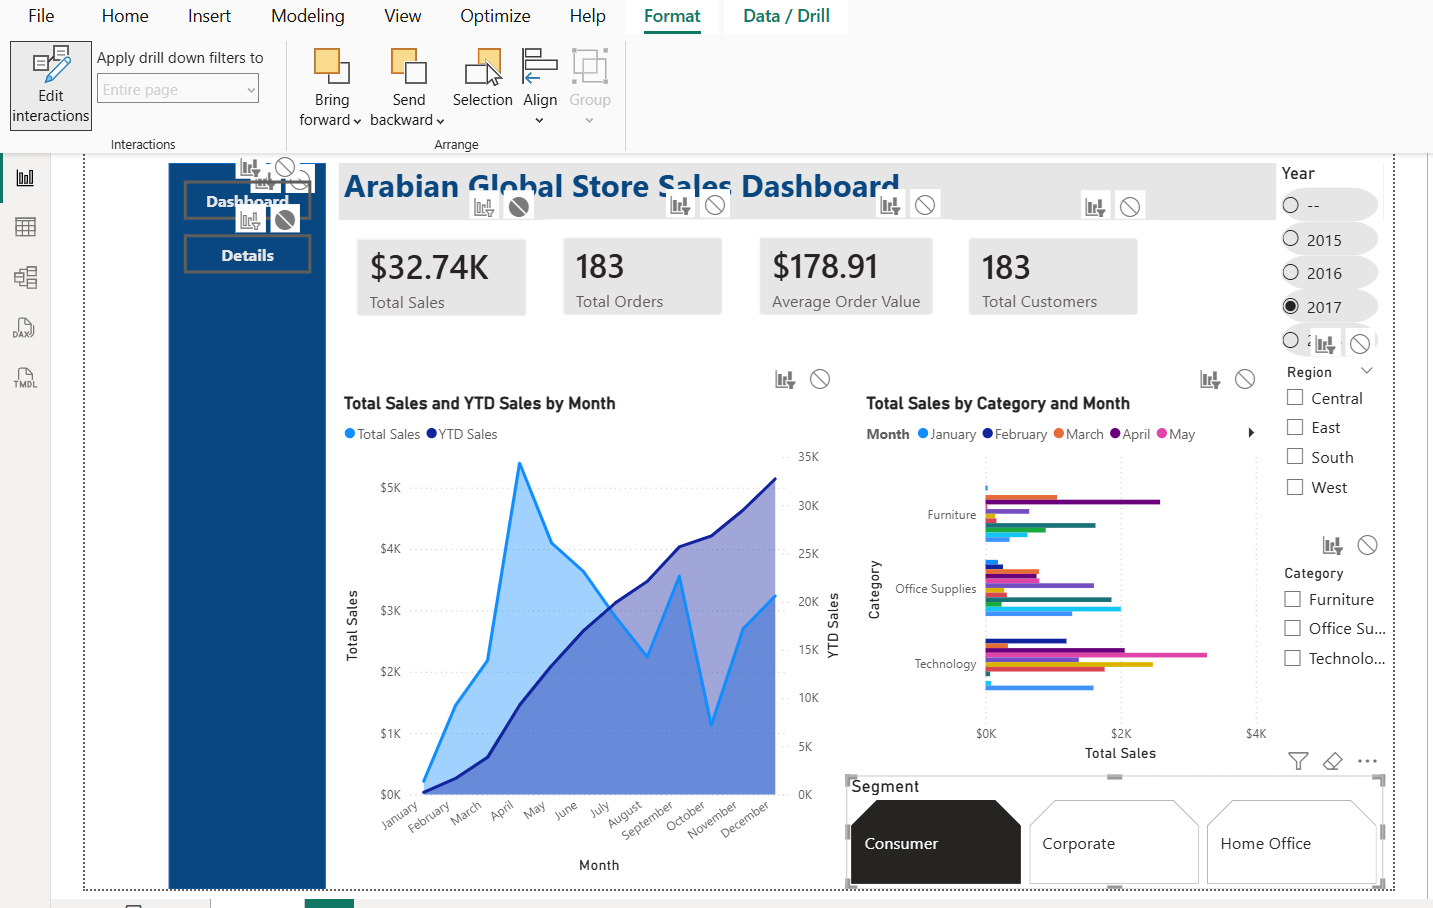

What the dashboard file says about the page in this screenshot:
{"tool":"powerbi","page":{"name":"Page 1","canvas":[1280,720],"ordinal":0},"visuals":[{"type":"shape","box":[82.3,9.6,153.7,710.8],"z":0},{"type":"textbox","title":"Arabian Global Store            Sales Dashboard","box":[248.3,9.6,1022.3,56.3],"z":0,"group":"g1"},{"type":"actionButton","box":[96.1,27.4,124.9,38.4],"z":1000},{"type":"cardVisual","fields":{"Data":["Fact_Orders.Total Sales"]},"box":[248.2,66,201.8,111.3],"z":1000,"group":"g1"},{"type":"cardVisual","fields":{"Data":["Fact_Orders.Total Orders"]},"box":[450,64.8,192,111.3],"z":2000,"group":"g1"},{"type":"actionButton","box":[96.1,79.6,124.9,38.4],"z":2000},{"type":"group","id":"g1","title":"Group 1","box":[248.2,9.6,1032.1,710.6],"z":3000},{"type":"cardVisual","fields":{"Data":["Fact_Orders.Average Order Value"]},"box":[642,64.8,205.4,111.3],"z":3000,"group":"g1"},{"type":"areaChart","fields":{"Category":["Dim_Date.Month"],"Y":["Fact_Orders.Total Sales"],"Y2":["Fact_Orders.YTD Sales"]},"box":[248.2,234.8,496.5,474.5],"z":4000,"group":"g1"},{"type":"actionButton","box":[0,0,100,40],"z":5000},{"type":"clusteredBarChart","fields":{"Y":["Fact_Orders.Total Sales"],"Category":["Dim_Products.Category"],"Series":["Dim_Date.Month"]},"box":[759.3,234.8,401.1,365.6],"z":5000,"group":"g1"},{"type":"cardVisual","fields":{"Data":["Dim_Customers.Total Customers"]},"box":[847.4,66,200.5,110.1],"z":6000,"group":"g1"},{"type":"listSlicer","fields":{"Values":["Dim_Date.Year"]},"box":[1165.3,9.8,105.2,297.1],"z":7000,"group":"g1"},{"type":"slicer","fields":{"Values":["Fact_Orders.Region"]},"box":[1162.9,200.5,110.1,181],"z":8000,"group":"g1"},{"type":"slicer","fields":{"Values":["Dim_Products.Category"]},"box":[1160.4,397.4,119.8,220.1],"z":9000,"group":"g1"},{"type":"advancedSlicerVisual","fields":{"Values":["Dim_Customers.Segment"]},"box":[744.7,609,525.8,111.3],"z":10000,"group":"g1"}]}

Visuals, with their boxes on the page's 1280x720 design canvas (x1, y1, x2, y2). These are canvas units, not pixel positions in the 1433x908 screenshot, which may show the page scaled, cropped or inside an application window:
shape: (left=82, top=10, right=236, bottom=720)
"Arabian Global Store            Sales Dashboard" textbox: (left=248, top=10, right=1271, bottom=66)
actionButton: (left=96, top=27, right=221, bottom=66)
cardVisual - Fact_Orders.Total Sales: (left=248, top=66, right=450, bottom=177)
cardVisual - Fact_Orders.Total Orders: (left=450, top=65, right=642, bottom=176)
actionButton: (left=96, top=80, right=221, bottom=118)
"Group 1" group: (left=248, top=10, right=1280, bottom=720)
cardVisual - Fact_Orders.Average Order Value: (left=642, top=65, right=847, bottom=176)
areaChart - Dim_Date.Month x Fact_Orders.Total Sales: (left=248, top=235, right=745, bottom=709)
actionButton: (left=0, top=0, right=100, bottom=40)
clusteredBarChart - Fact_Orders.Total Sales x Dim_Products.Category: (left=759, top=235, right=1160, bottom=600)
cardVisual - Dim_Customers.Total Customers: (left=847, top=66, right=1048, bottom=176)
listSlicer - Dim_Date.Year: (left=1165, top=10, right=1270, bottom=307)
slicer - Fact_Orders.Region: (left=1163, top=200, right=1273, bottom=382)
slicer - Dim_Products.Category: (left=1160, top=397, right=1280, bottom=618)
advancedSlicerVisual - Dim_Customers.Segment: (left=745, top=609, right=1270, bottom=720)
